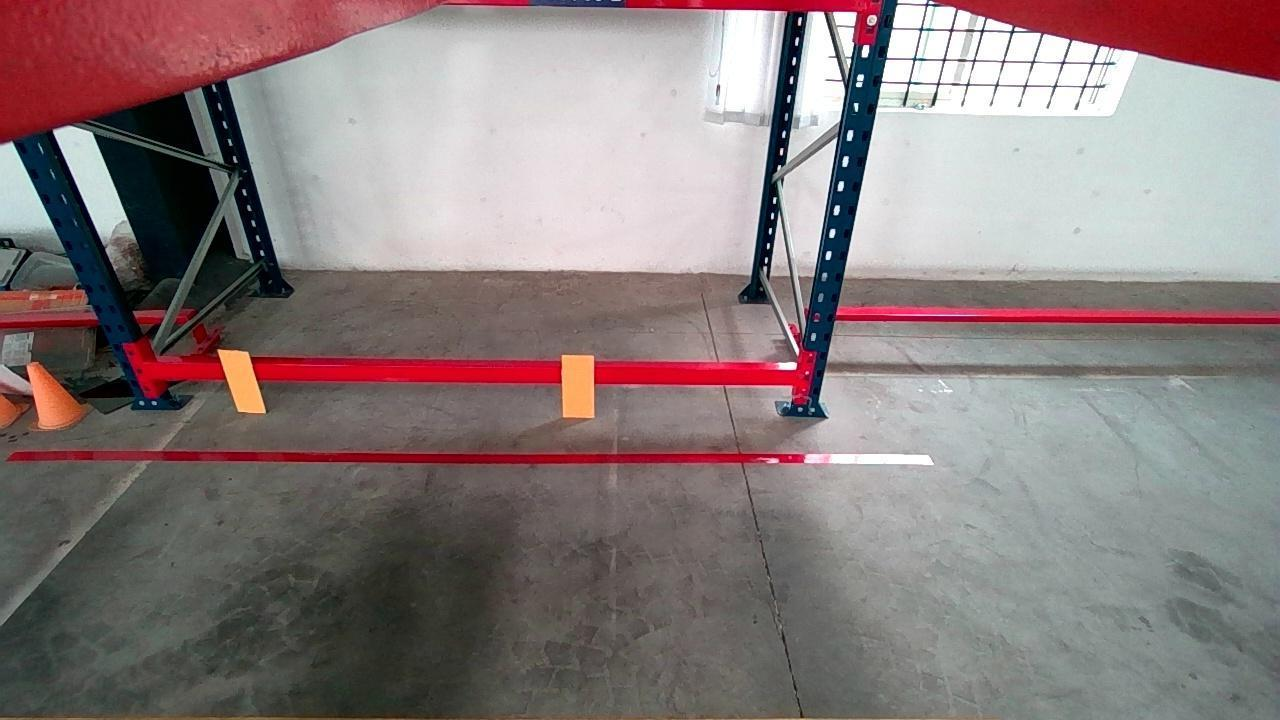h_rack: (140, 364, 808, 386)
orange_strip: (216, 349, 266, 412), (561, 352, 591, 418)
red_line: (4, 449, 935, 466)
